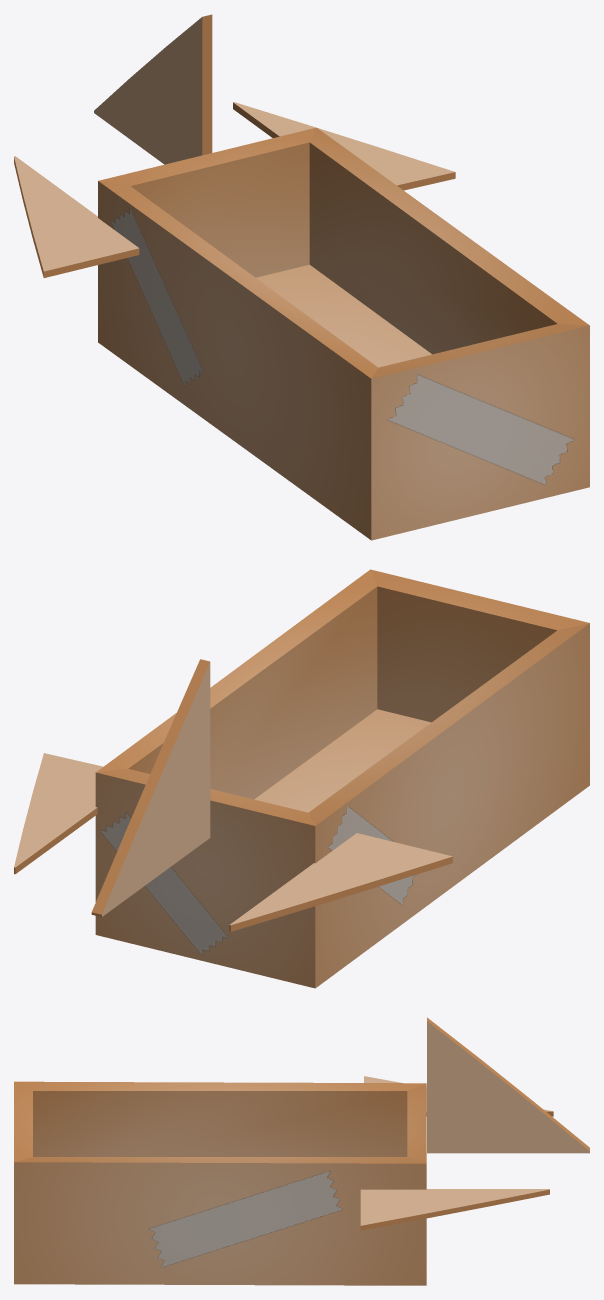
Rendered from cardboard body.FBX.
3 renders of one model, top to bottom at view 1: azimuth 30°, elevation 25°; view 2: azimuth 150°, elevation 25°; view 3: azimuth 270°, elevation 25°, orthographic. The views are drawn at different scales.
Visible parts, largest first — view 1: Box001, Box002, Box004, Box003; view 2: Box001, Box002, Box004, Box003; view 3: Box001, Box002, Box003.
Boxes of the visible parts, x1=… form: Box001: x1=98, y1=127, x2=589, y2=540; Box002: x1=94, y1=14, x2=212, y2=164; Box004: x1=14, y1=156, x2=139, y2=277; Box003: x1=233, y1=102, x2=455, y2=190; Box001: x1=95, y1=569, x2=589, y2=988; Box002: x1=91, y1=659, x2=210, y2=917; Box004: x1=229, y1=833, x2=452, y2=931; Box003: x1=14, y1=753, x2=102, y2=874; Box001: x1=14, y1=1081, x2=426, y2=1285; Box002: x1=427, y1=1017, x2=589, y2=1153; Box003: x1=360, y1=1189, x2=549, y2=1230.
Size of the model in its own units: 2.08 by 3.36 by 1.46.
1 material, 1 textured.
